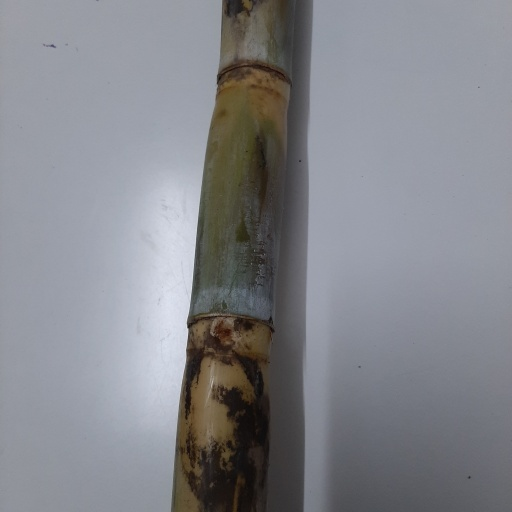Damage_Bud: (211, 318, 238, 347)
